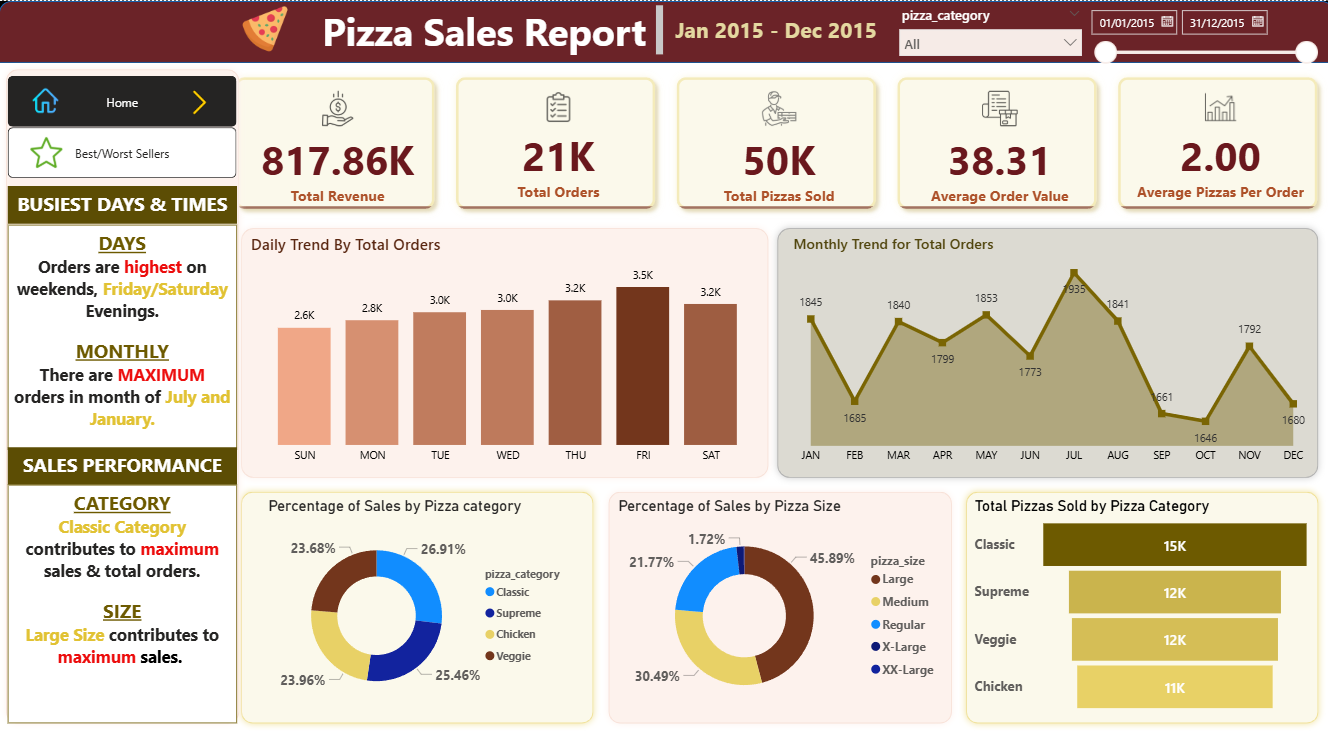

The dashboard page shown, as its layout file describes it:
{"tool":"powerbi","page":{"name":"Home","canvas":[1500,820],"ordinal":0},"visuals":[{"type":"cardVisual","fields":{"Data":["pizza_sales.Total Revenue","pizza_sales.Total Orders","pizza_sales.Total Pizzas Sold","pizza_sales.Average Order Value","pizza_sales.Average Pizzas Per Order"]},"box":[249.2,69.5,1250.8,182],"z":0},{"type":"shape","box":[0,0,1500,69.5],"z":1000},{"type":"textbox","box":[357.6,0,393.2,66.1],"z":2000},{"type":"textbox","box":[744.1,11.9,257.6,47.5],"z":3000},{"type":"image","box":[254.2,0,89.8,62.7],"z":4000},{"type":"shape","box":[264.4,247.5,608.5,296.6],"z":5000},{"type":"clusteredColumnChart","title":"Daily Trend By Total Orders","fields":{"Y":["pizza_sales.Total Orders"],"Category":["pizza_sales.Order Day"]},"box":[278,261,588.1,267.8],"z":6000},{"type":"shape","box":[866.7,246.7,623.7,296.6],"z":7000,"group":"g1"},{"type":"shape","box":[264.4,544.1,411.9,276.3],"z":7000},{"type":"areaChart","title":"Monthly Trend for Total Orders","fields":{"Category":["pizza_sales.Order Month"],"Y":["pizza_sales.Total Orders"]},"box":[887.6,260.7,591.5,267.8],"z":8000,"group":"g1"},{"type":"group","id":"g1","title":"Group 1","box":[866.7,246.7,623.7,296.6],"z":8000},{"type":"shape","box":[1078,544.1,411.9,276.3],"z":9000},{"type":"shape","box":[676.3,544.1,401.7,276.3],"z":10000},{"type":"donutChart","title":"Percentage of Sales by Pizza category","fields":{"Category":["pizza_sales.pizza_category"],"Y":["pizza_sales.Total Revenue"]},"box":[298.3,557.6,359.3,247.5],"z":11000},{"type":"donutChart","title":"Percentage of Sales by Pizza Size","fields":{"Category":["pizza_sales.pizza_size"],"Y":["pizza_sales.Total Revenue"]},"box":[691.5,557.6,376.3,247.5],"z":12000},{"type":"funnel","title":"Total Pizzas Sold by Pizza Category","fields":{"Y":["pizza_sales.Total Pizzas Sold"],"Category":["pizza_sales.pizza_category"]},"box":[1091.5,557.6,388.1,247.5],"z":13000},{"type":"shape","box":[0,69.5,278,750.8],"z":14000},{"type":"textbox","box":[10.2,208.5,257.6,42.4],"z":15000},{"type":"textbox","box":[9.6,250.3,258.6,258.6],"z":16000},{"type":"textbox","box":[9.6,508.9,258.6,41.9],"z":17000},{"type":"textbox","box":[9.6,550.8,258.6,261],"z":18000},{"type":"slicer","fields":{"Values":["pizza_sales.pizza_category"]},"box":[1001.7,0,225.4,66.1],"z":19000},{"type":"slicer","fields":{"Values":["pizza_sales.order_date"]},"box":[1214.9,0,275.3,84.3],"z":20000},{"type":"pageNavigator","box":[10.2,84.7,257.6,57.6],"z":21000},{"type":"pageNavigator","box":[10.2,142.4,257.6,57.6],"z":22000},{"type":"image","box":[184.7,94.9,79.7,37.3],"z":23000},{"type":"image","box":[10.2,93.2,84.7,39],"z":24000},{"type":"image","box":[5.1,147.5,94.9,45.8],"z":25000}]}

Visuals, with their boxes in screenshot pixels (x1, y1, x2, y2), scaled from the page's 1500x820 canvas onto the 1328x731 screenshot:
cardVisual - pizza_sales.Total Revenue x pizza_sales.Total Orders: 221, 62, 1327, 224
shape: 0, 0, 1327, 62
textbox: 317, 0, 665, 59
textbox: 659, 11, 887, 53
image: 225, 0, 305, 56
shape: 234, 221, 773, 485
"Daily Trend By Total Orders" clusteredColumnChart: 246, 233, 767, 471
shape: 767, 220, 1320, 484
shape: 234, 485, 599, 730
"Monthly Trend for Total Orders" areaChart: 786, 232, 1309, 471
"Group 1" group: 767, 220, 1320, 484
shape: 954, 485, 1319, 730
shape: 599, 485, 954, 730
"Percentage of Sales by Pizza category" donutChart: 264, 497, 582, 718
"Percentage of Sales by Pizza Size" donutChart: 612, 497, 945, 718
"Total Pizzas Sold by Pizza Category" funnel: 966, 497, 1310, 718
shape: 0, 62, 246, 730
textbox: 9, 186, 237, 224
textbox: 8, 223, 237, 454
textbox: 8, 454, 237, 491
textbox: 8, 491, 237, 724
slicer - pizza_sales.pizza_category: 887, 0, 1086, 59
slicer - pizza_sales.order_date: 1076, 0, 1319, 75
pageNavigator: 9, 76, 237, 127
pageNavigator: 9, 127, 237, 178
image: 164, 85, 234, 118
image: 9, 83, 84, 118
image: 5, 131, 89, 172
